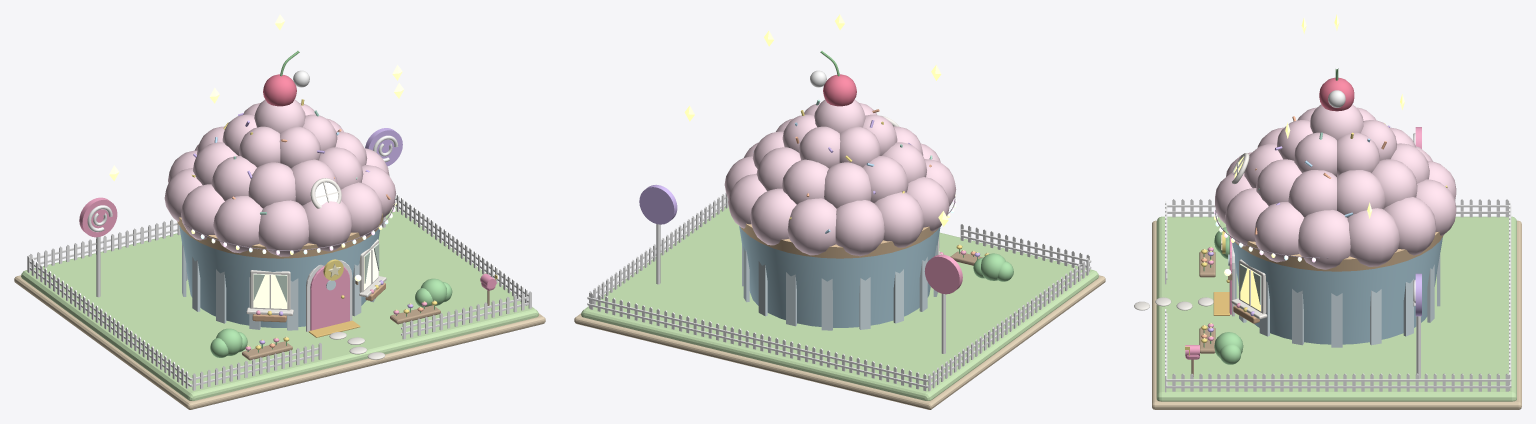
File: building_sweets_L10.glb
The picture shows the model from 3 angles, left to right: view 1: azimuth 30°, elevation 25°; view 2: azimuth 150°, elevation 25°; view 3: azimuth 270°, elevation 25°; orthographic projection. The views are drawn at different scales.
Parts seen in each view (by area): view 1: sweets_L10, Body; view 2: sweets_L10, Body; view 3: sweets_L10, Body.
Part boxes in pixels (x1,y1,x2,y2): sweets_L10: [14, 14, 545, 409]; Body: [79, 51, 402, 337]; sweets_L10: [574, 14, 1105, 409]; Body: [639, 51, 962, 353]; sweets_L10: [1134, 14, 1521, 409]; Body: [1213, 68, 1456, 378].
Bounding box in the file's own units: 26.61 × 20.56 × 23.69.
